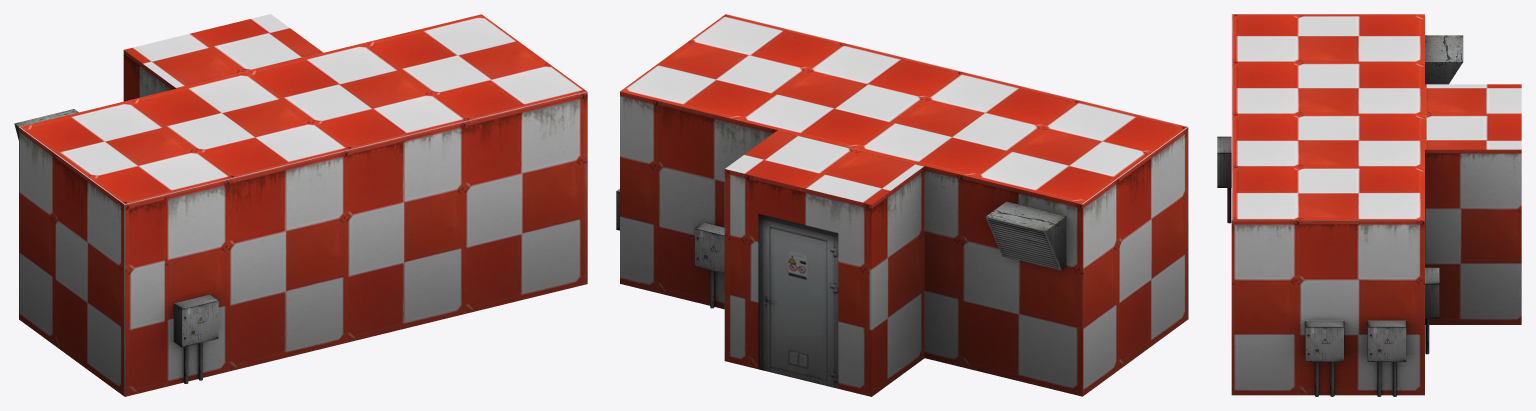
Rendered from Checkered_Hut.gltf.
The picture shows the model from 3 angles, left to right: view 1: azimuth 30°, elevation 25°; view 2: azimuth 150°, elevation 25°; view 3: azimuth 270°, elevation 25°; orthographic projection. The views are drawn at different scales.
Parts seen in each view (by area): view 1: Checkered_Hut; view 2: Checkered_Hut; view 3: Checkered_Hut.
Part boxes in pixels (<box>): Checkered_Hut: <box>14,14,587,396</box>; Checkered_Hut: <box>616,14,1188,396</box>; Checkered_Hut: <box>1217,14,1521,396</box>.
Bounding box in the file's own units: 6.49 × 2.5 × 3.94.
